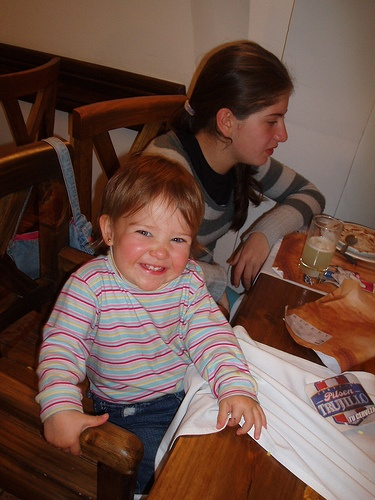head: (98, 152, 199, 294), (211, 37, 298, 170)
person: (35, 148, 257, 495), (137, 35, 322, 314)
